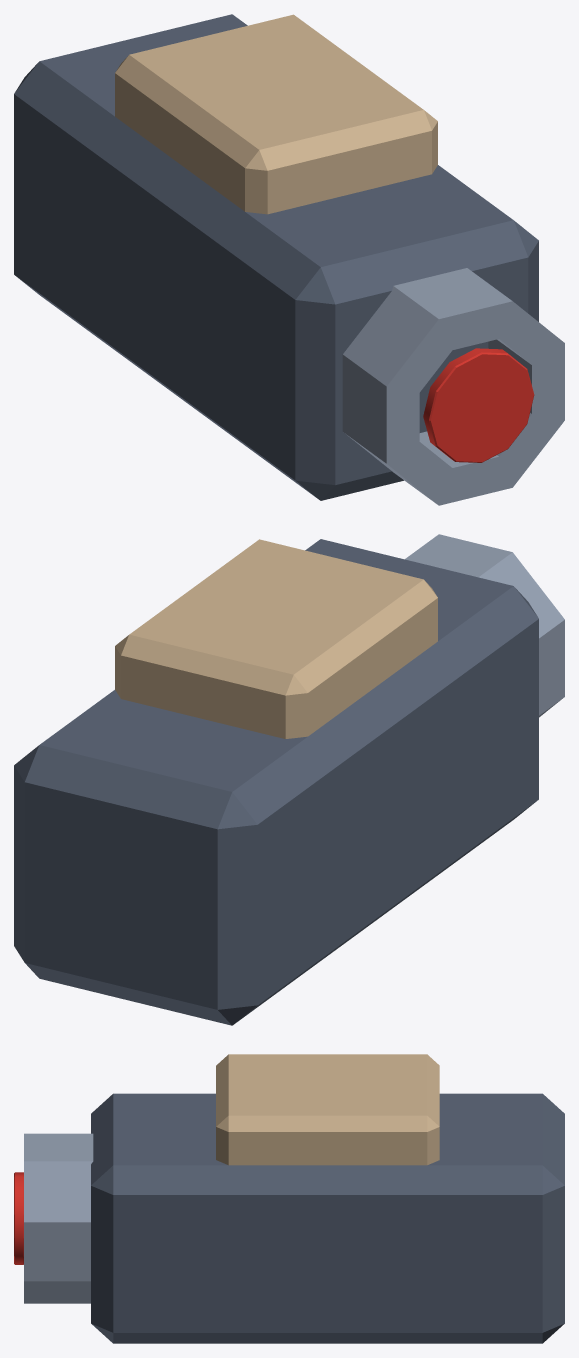
Rendered from Module_Laser_v003.fbx.
3 views of the same model, one above another, from view 1: azimuth 30°, elevation 25°; view 2: azimuth 150°, elevation 25°; view 3: azimuth 270°, elevation 25° (orthographic). The views are drawn at different scales.
Visible parts, largest first — view 1: Module_Laser__RECEIVER_MESH; view 2: Module_Laser__RECEIVER_MESH; view 3: Module_Laser__RECEIVER_MESH.
Boxes of the visible parts, x1=… form: Module_Laser__RECEIVER_MESH: x1=14, y1=14, x2=564, y2=505; Module_Laser__RECEIVER_MESH: x1=14, y1=534, x2=564, y2=1025; Module_Laser__RECEIVER_MESH: x1=14, y1=1054, x2=564, y2=1343.
Size of the model in its own units: 0.24 by 0.275 by 0.616.
